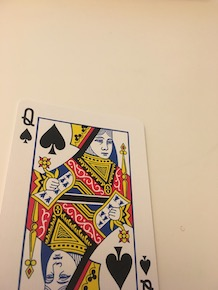QueenOfSpades: (1, 95, 167, 290)
